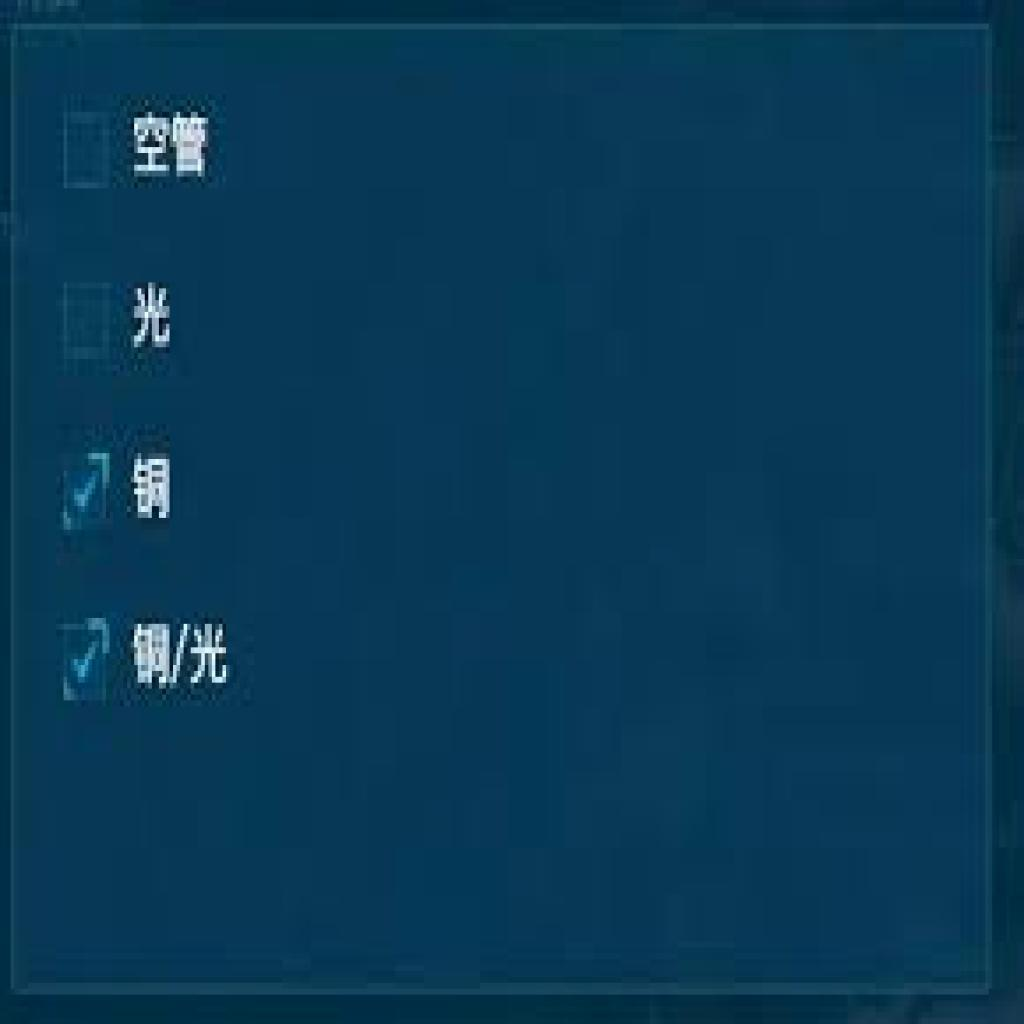checkbox: (51, 607, 116, 717), (55, 434, 119, 544), (59, 264, 113, 379), (60, 104, 116, 207)
